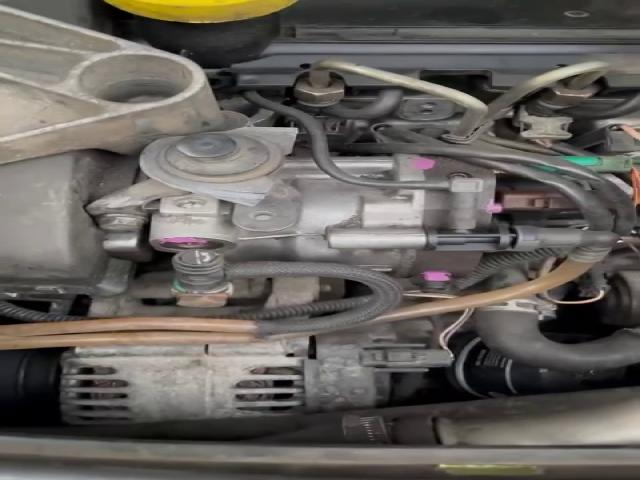alternator: (62, 338, 307, 424)
high_pressure_pump: (150, 154, 618, 288)
